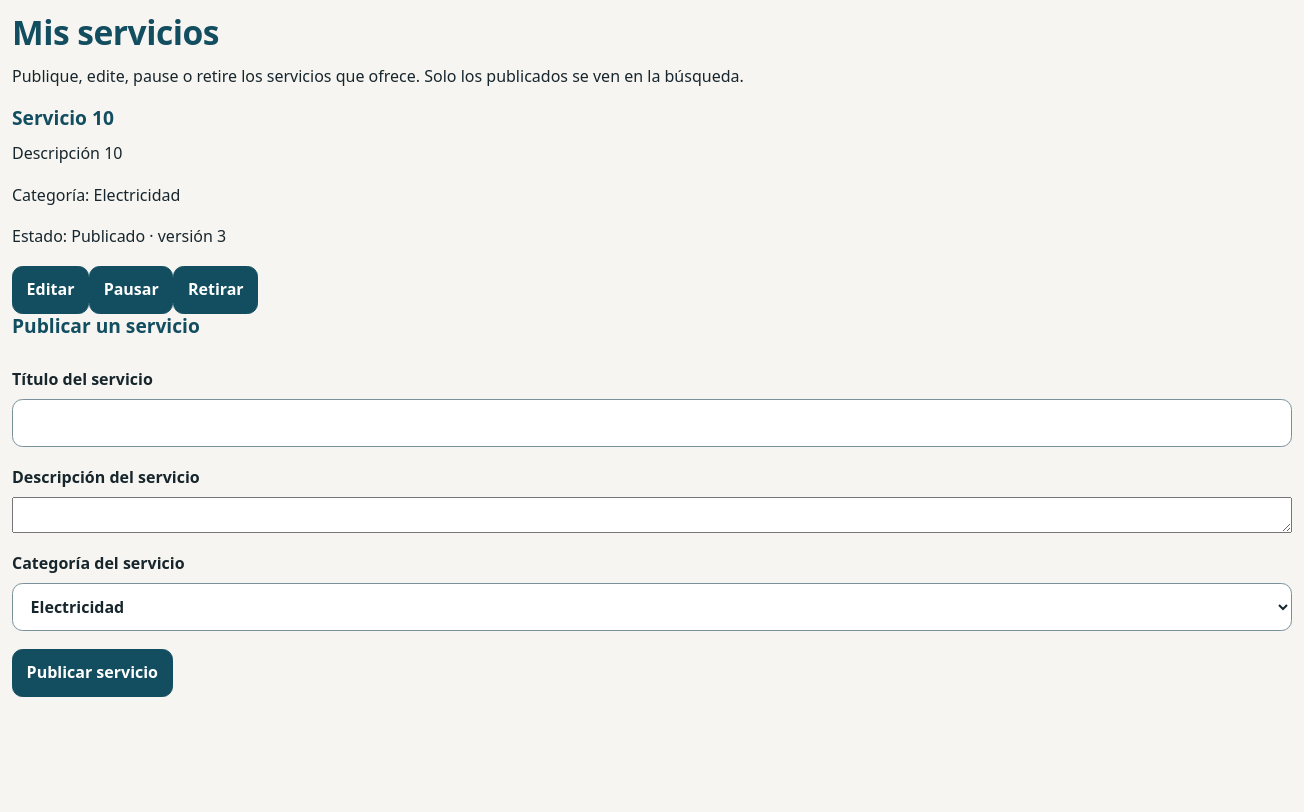
Test case: CA-SER-04 una clasificación que no admite publicaciones se informa y no se muestra un servicio nuevo
In the field labelled "Título del servicio": (652, 423) [12,399,1292,447], type "Nuevo"
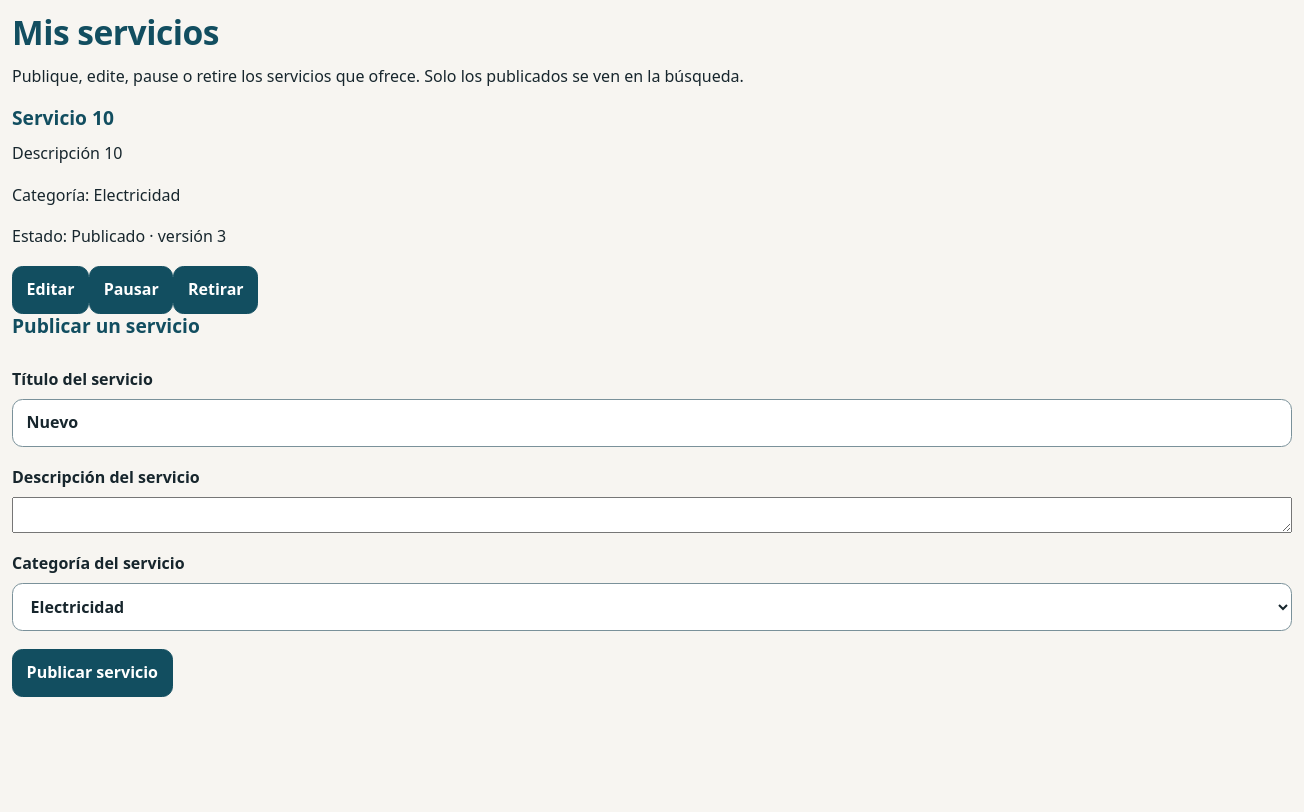
In the text box labelled "Descripción del servicio": (652, 515) [12,497,1292,533], type "Detalle"
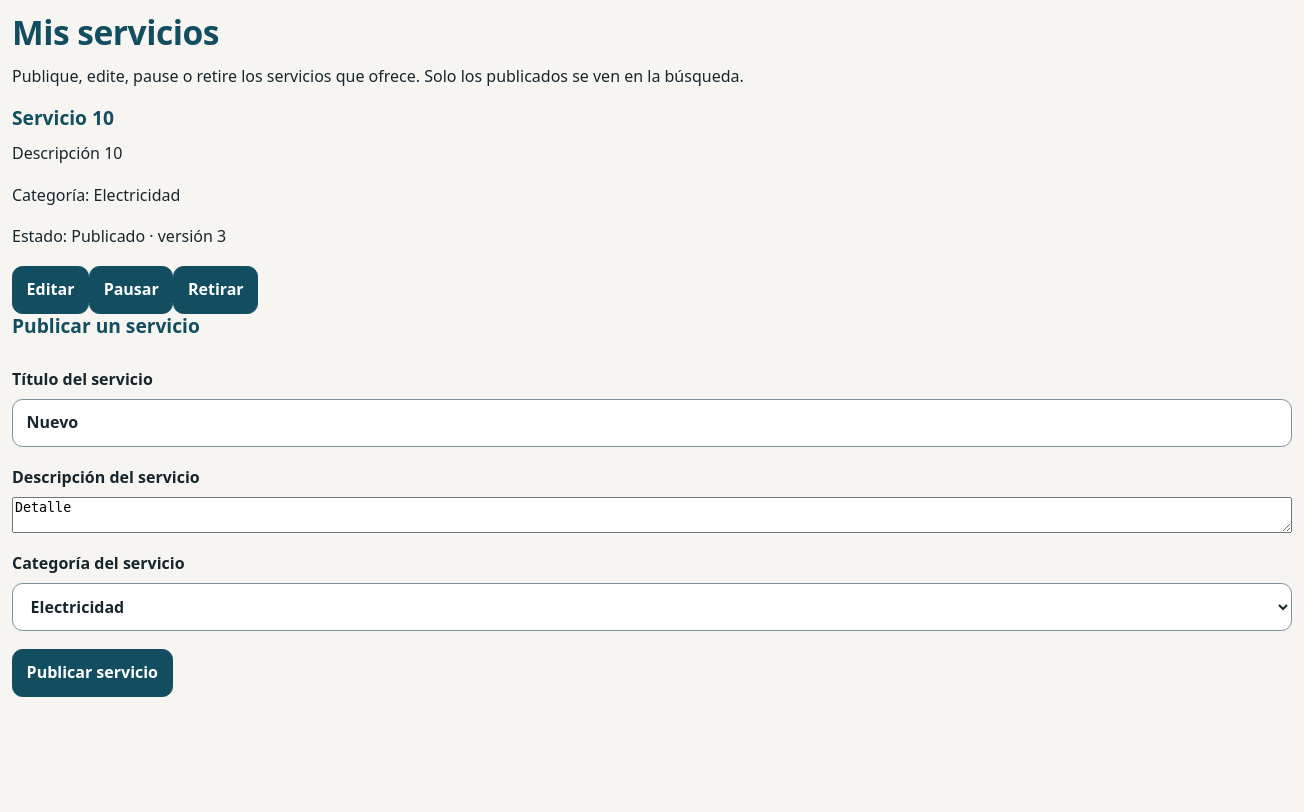
Click the button "Publicar servicio": (92, 673) [12,649,173,697]
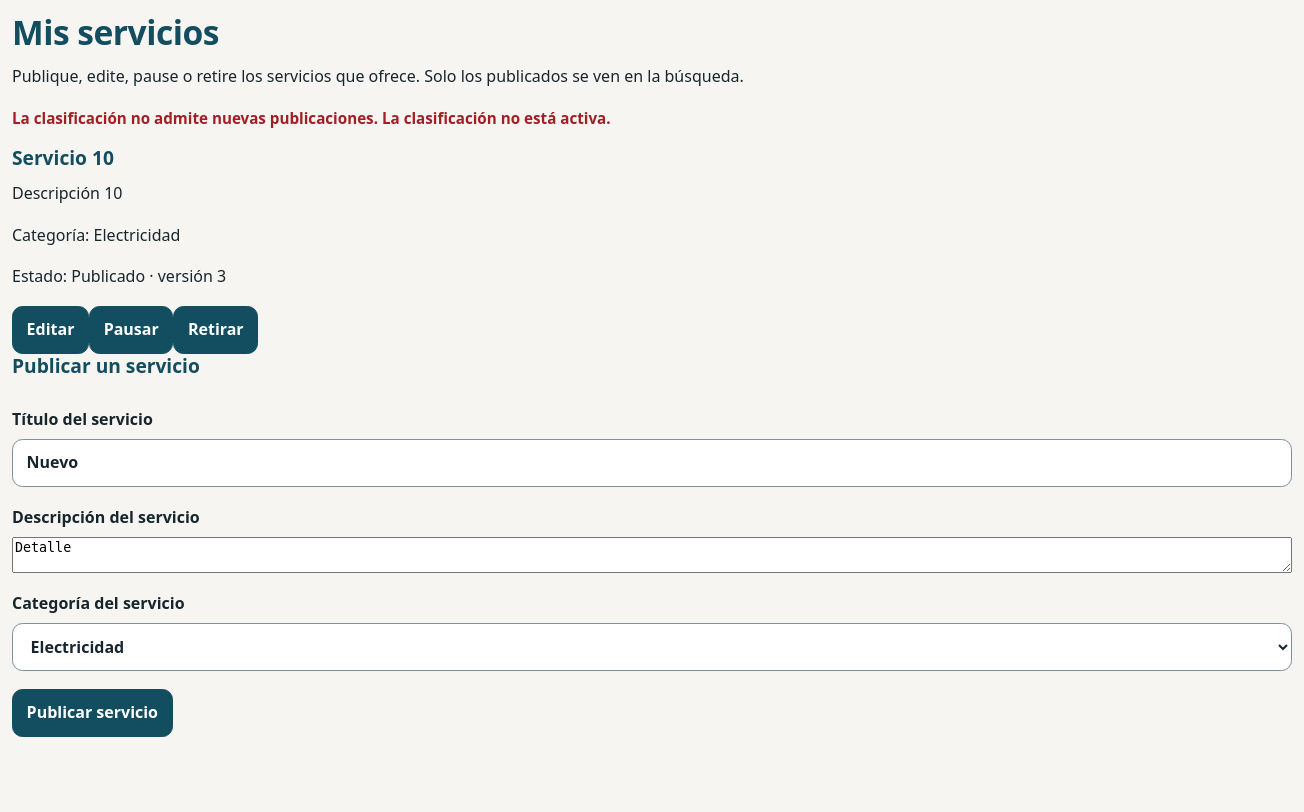
Check: the message shows "La clasificación no admite nuevas publicaciones.", box [12,108,611,128]
